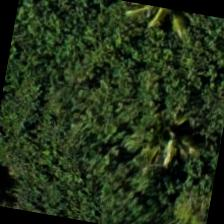Kelapa_Sawit: (116, 90, 219, 194)
